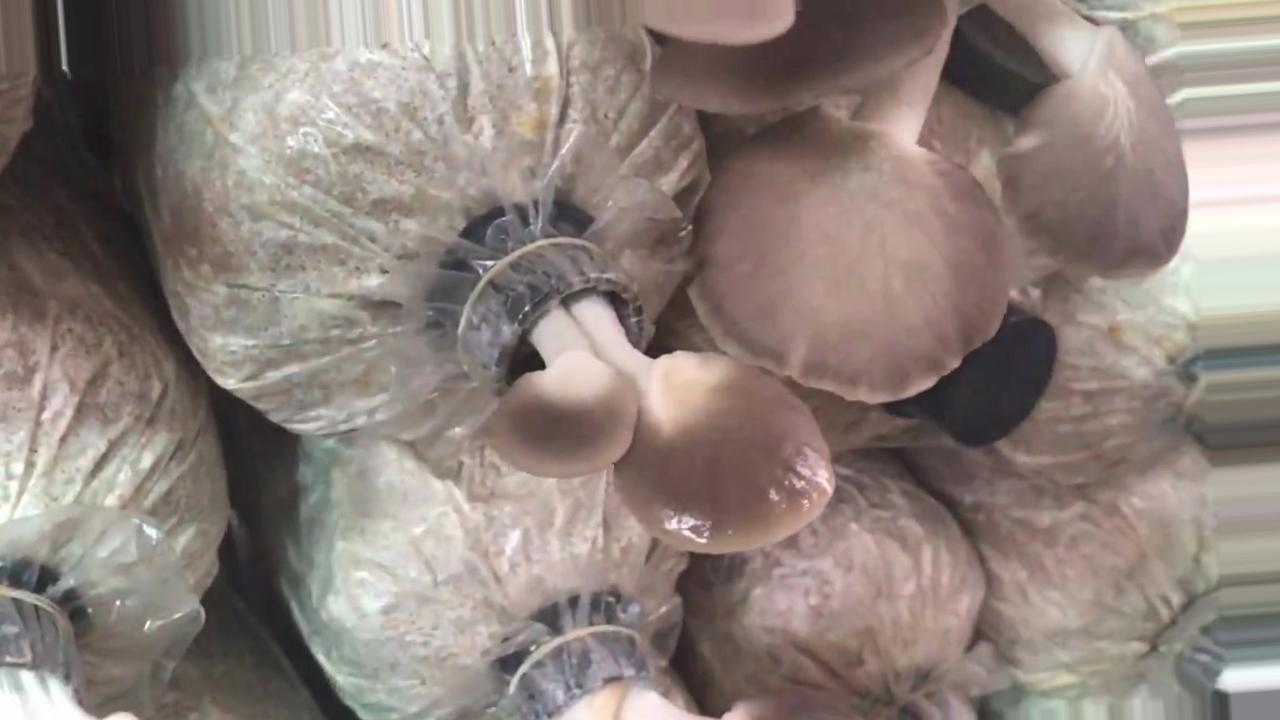nam: (681, 2, 1189, 406), (464, 235, 839, 556)
